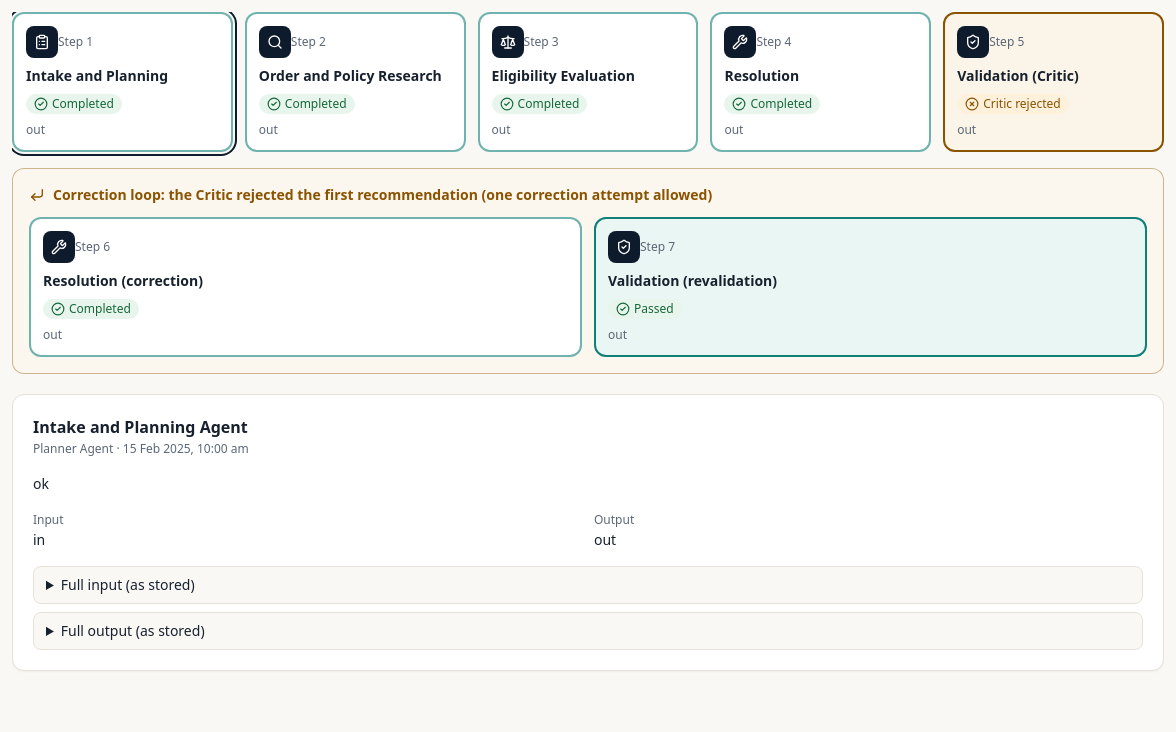
Test: PipelineRail › renders the correction loop only when it ran and lets a stage be inspected
This screenshot has width=1176, height=732.
expect the element labelled "Correction loop" is shown: met, box [12,168,1164,374]
expect the text "Critic rejected" is shown: met, box [957,94,1069,114]
Click the button "Step 5 Validation (Critic) Critic rejected out" at {"x": 1054, "y": 82}, box [943,12,1164,152]
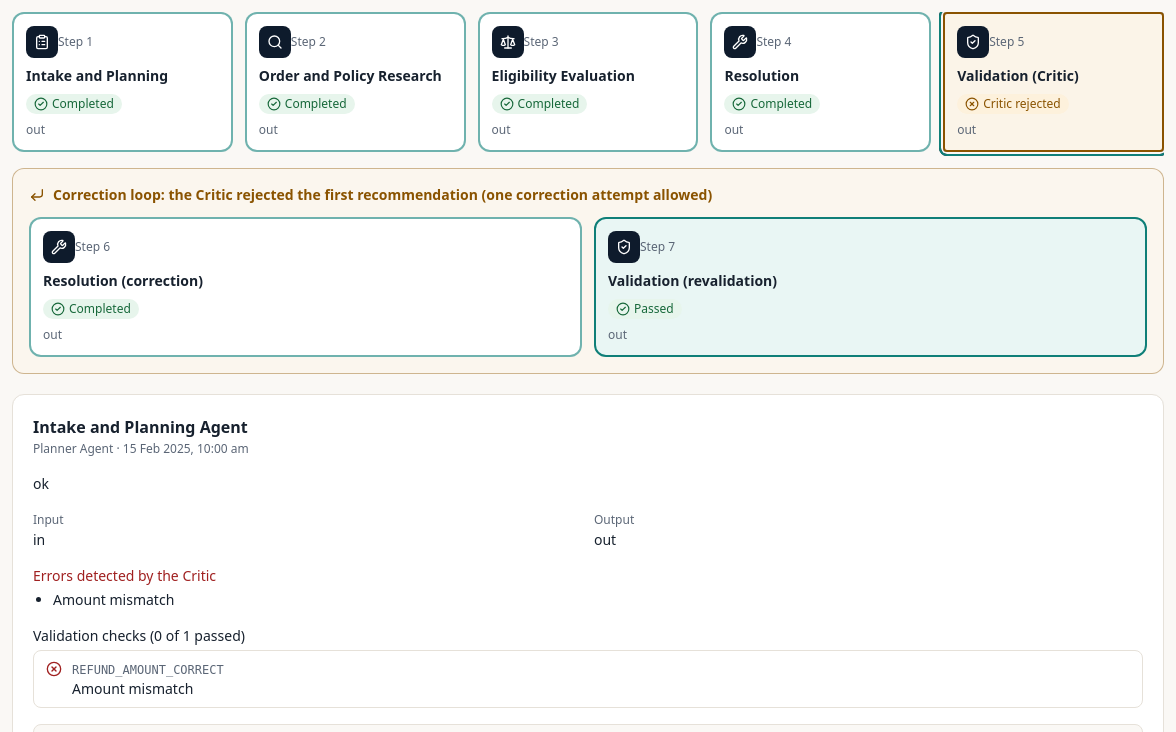
expect the element named "Stage details" shows "Amount mismatch": met, box [53,590,174,609]
